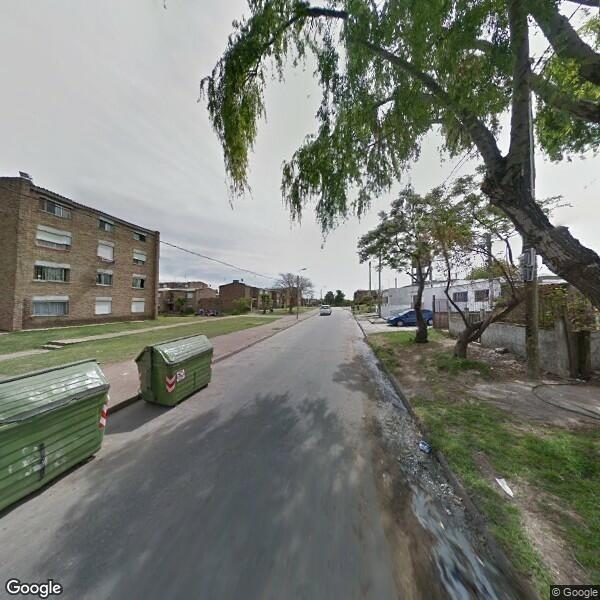Dechets: (492, 467, 518, 503), (412, 432, 433, 461)
Trash: (0, 360, 111, 512), (135, 334, 214, 408)
